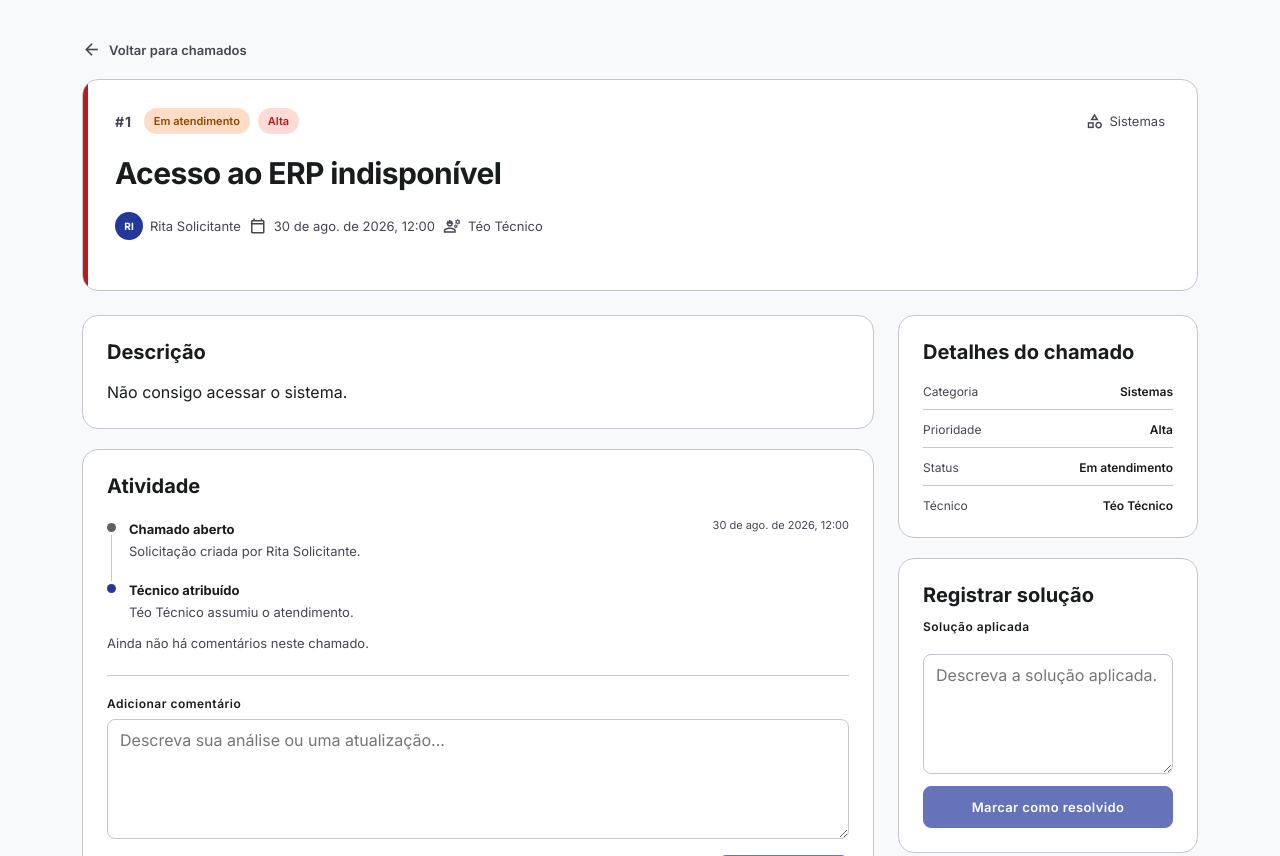
TicketDetailsView › permite que o técnico responsável registre a solução
Type "A permissão do usuário foi restaurada." into the text box with id "solution" at (1048, 714), box [923, 654, 1173, 774]
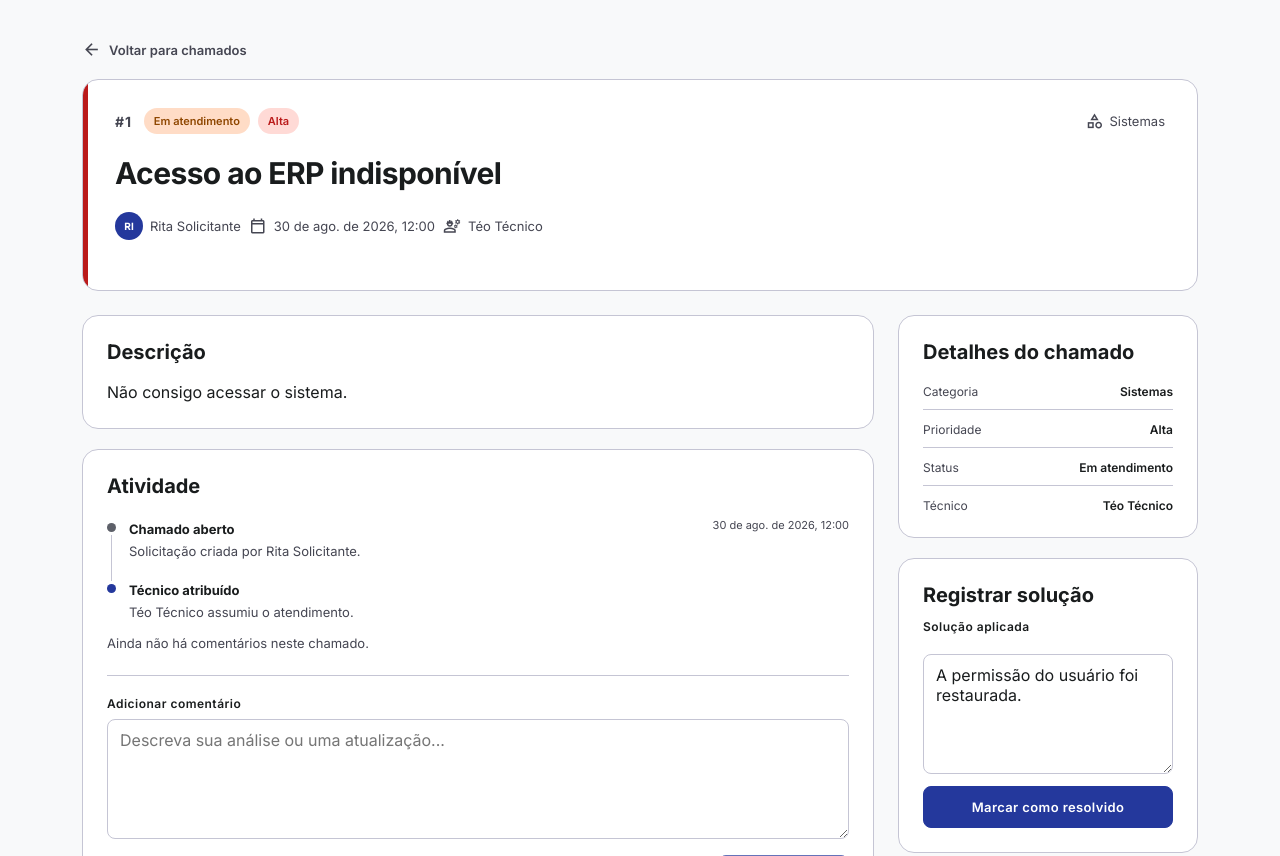
Click the button "Marcar como resolvido" at (1048, 807), box [923, 786, 1173, 828]
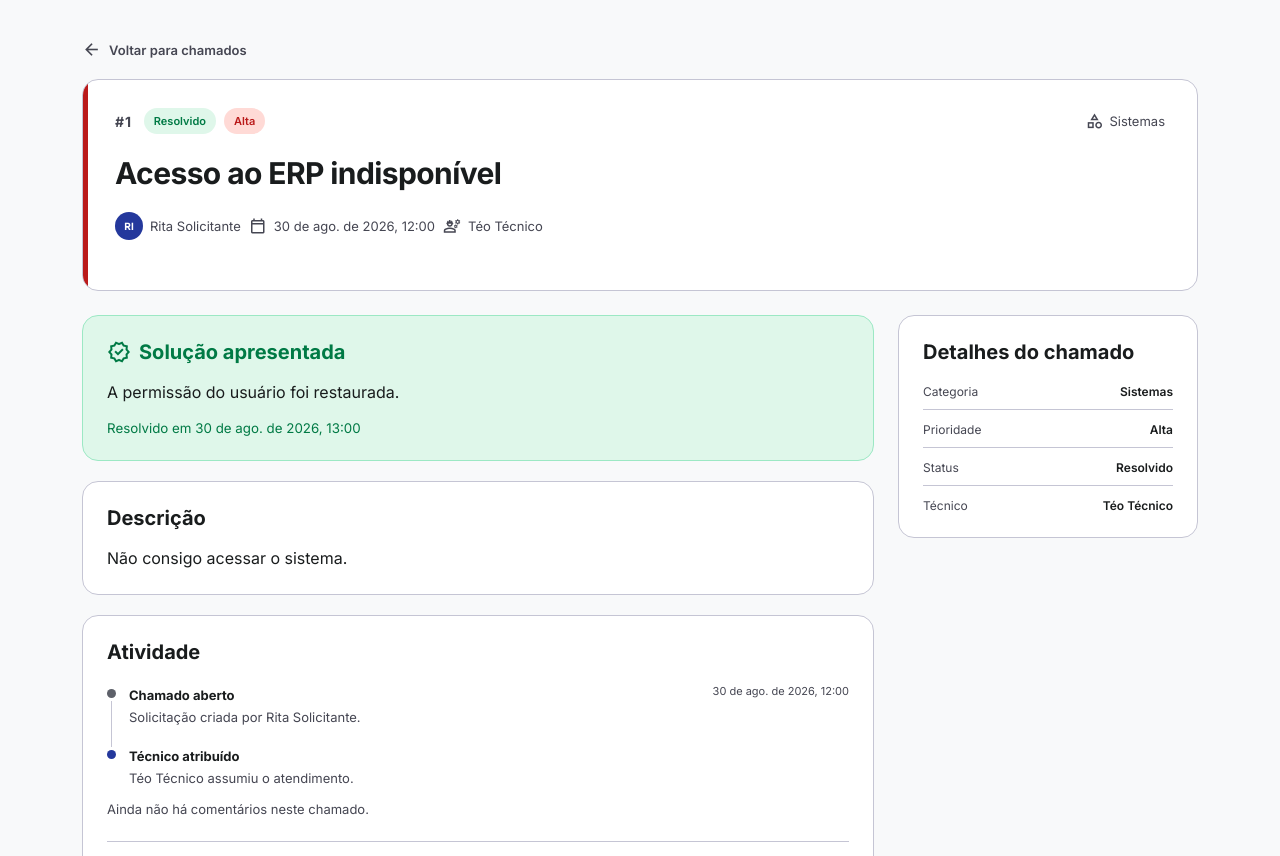
Expected: the text "Solução apresentada" is shown, [107, 338, 345, 366]
